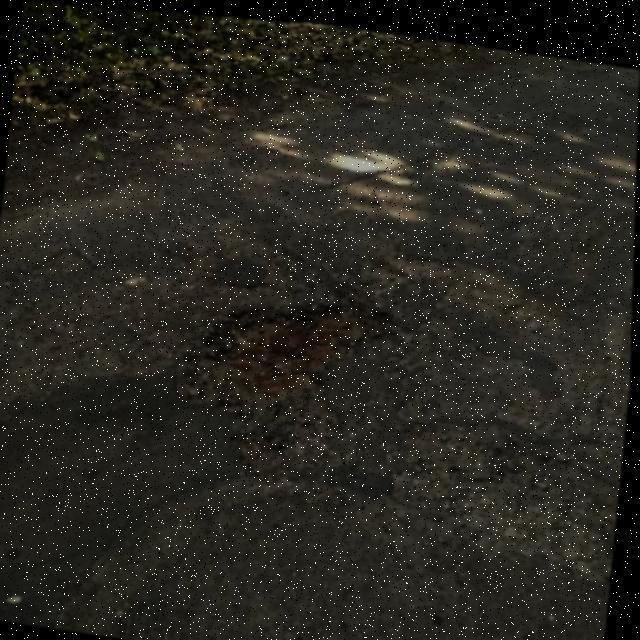pothole: (176, 268, 410, 440)
